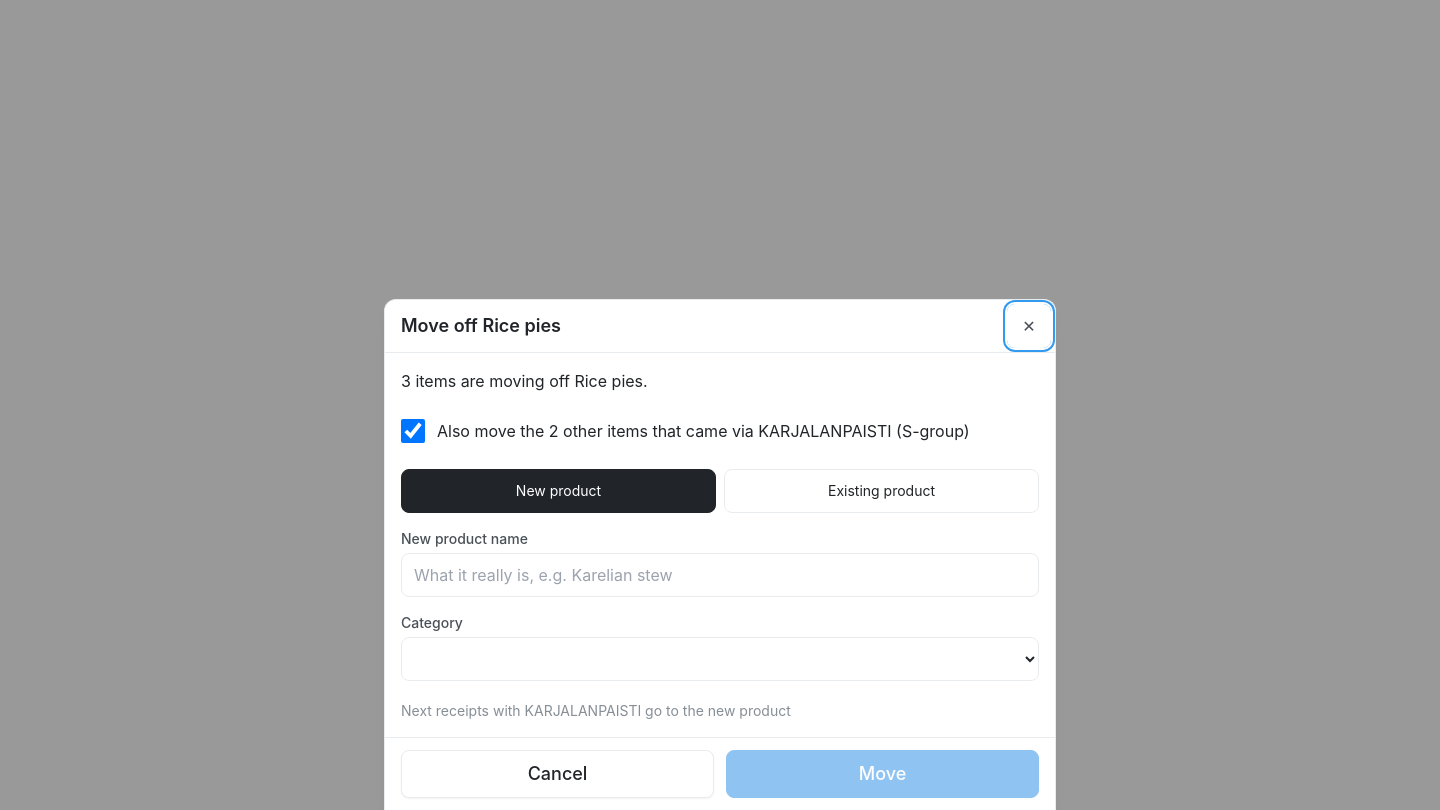
it: SplitSheet › will not move a product onto itself
Click the radio button labelled "Existing product". click: (882, 491)
box: x1=724 y1=469 x2=1039 y2=513
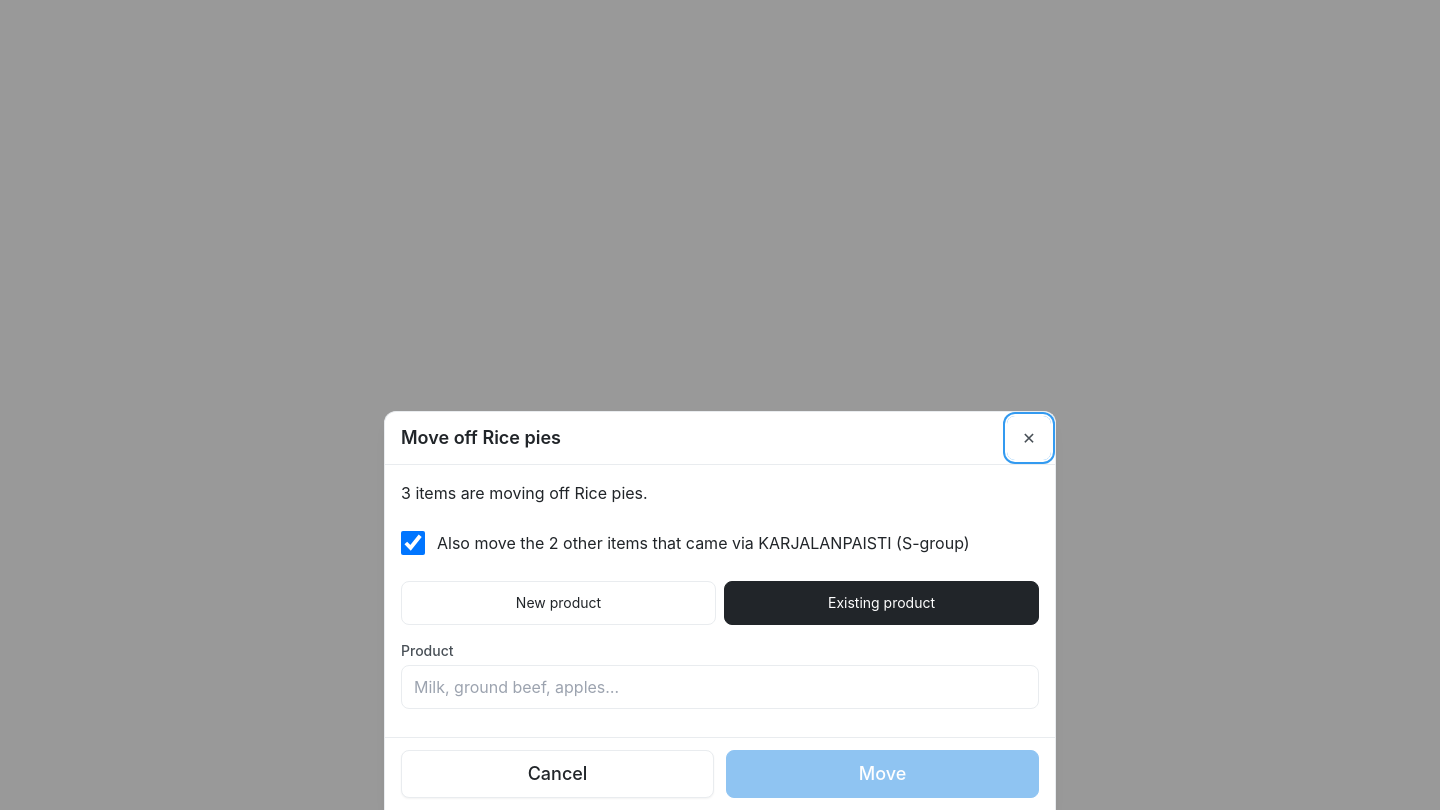
Type "rice" into the search field labelled "Product". click: (720, 687)
box: x1=401 y1=665 x2=1039 y2=709
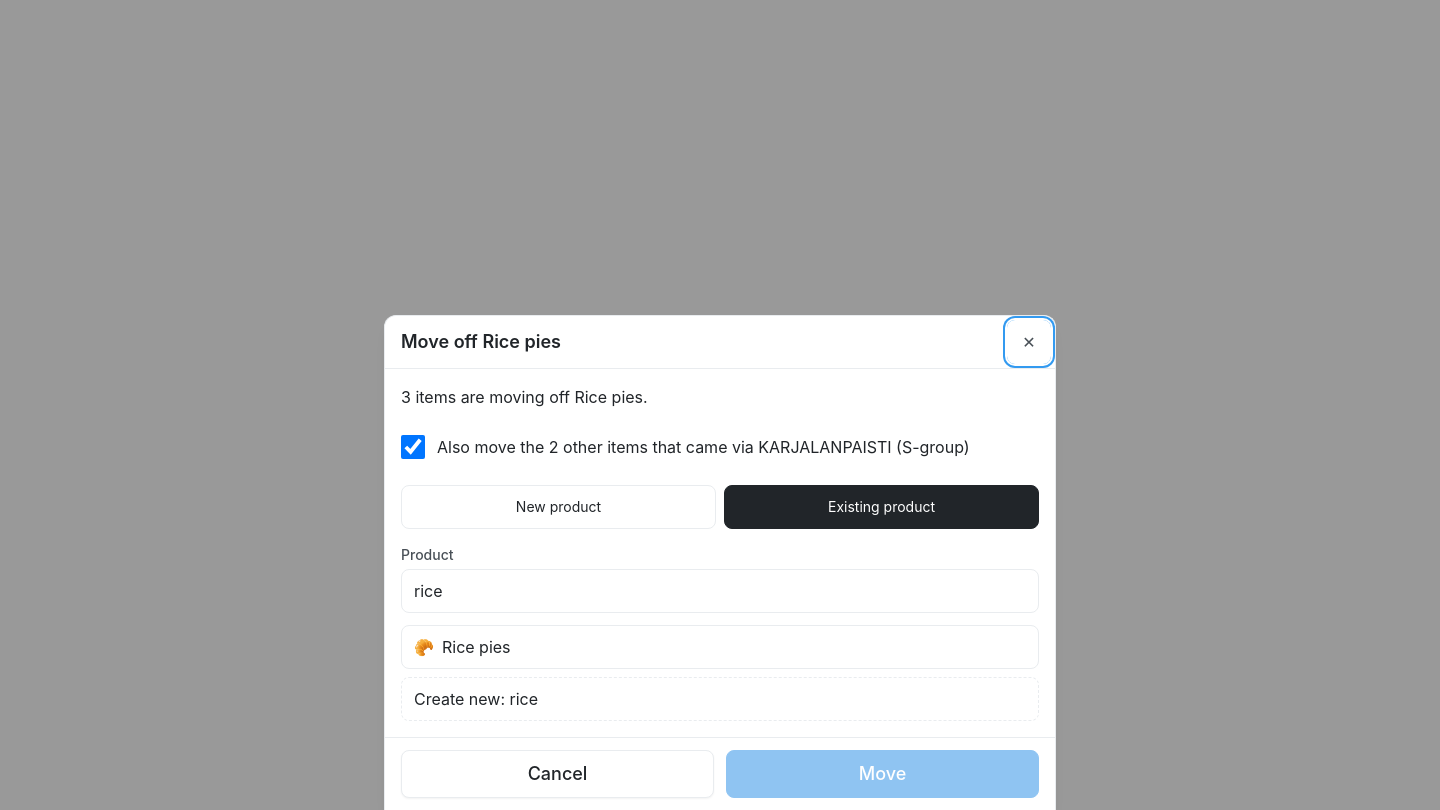
Click the button "🥐 Rice pies". click: (476, 647)
box: x1=401 y1=625 x2=1039 y2=669
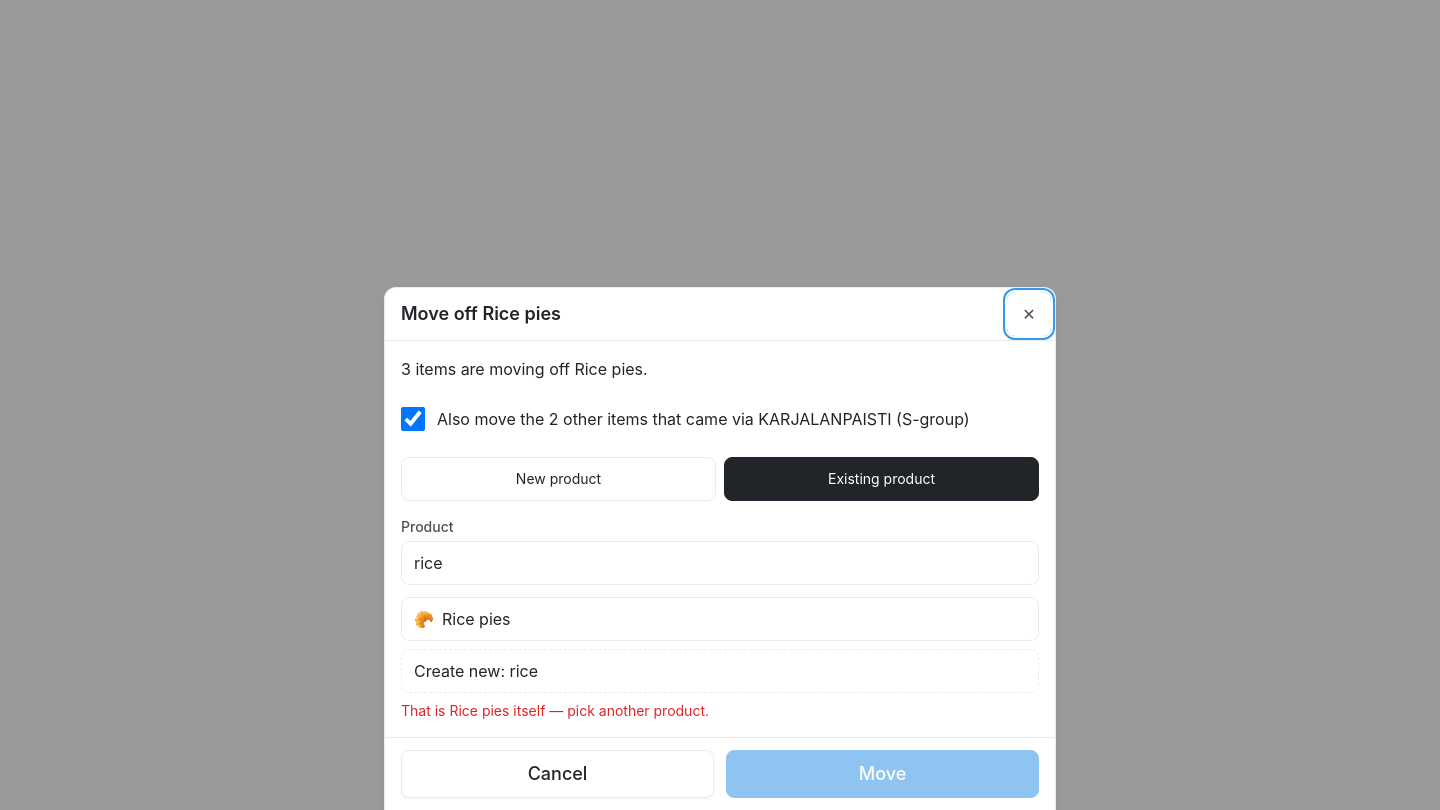
Expected: the button "Move" is disabled, x1=726 y1=750 x2=1039 y2=798
Result: the text "That is Rice pies itself — pick another product." is shown at x1=401 y1=702 x2=709 y2=719
